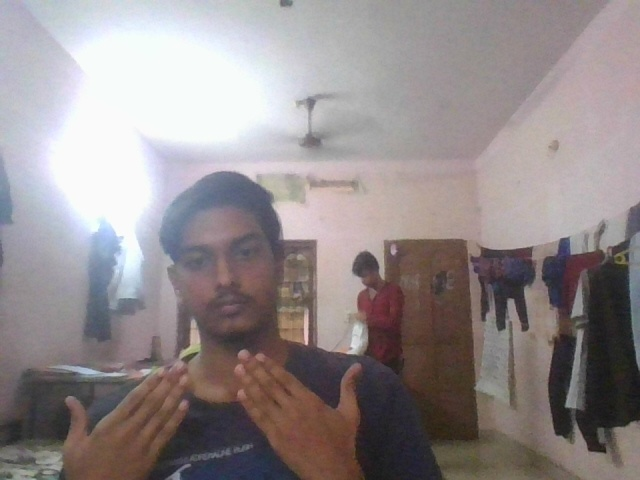thankyou: (56, 344, 367, 480)
